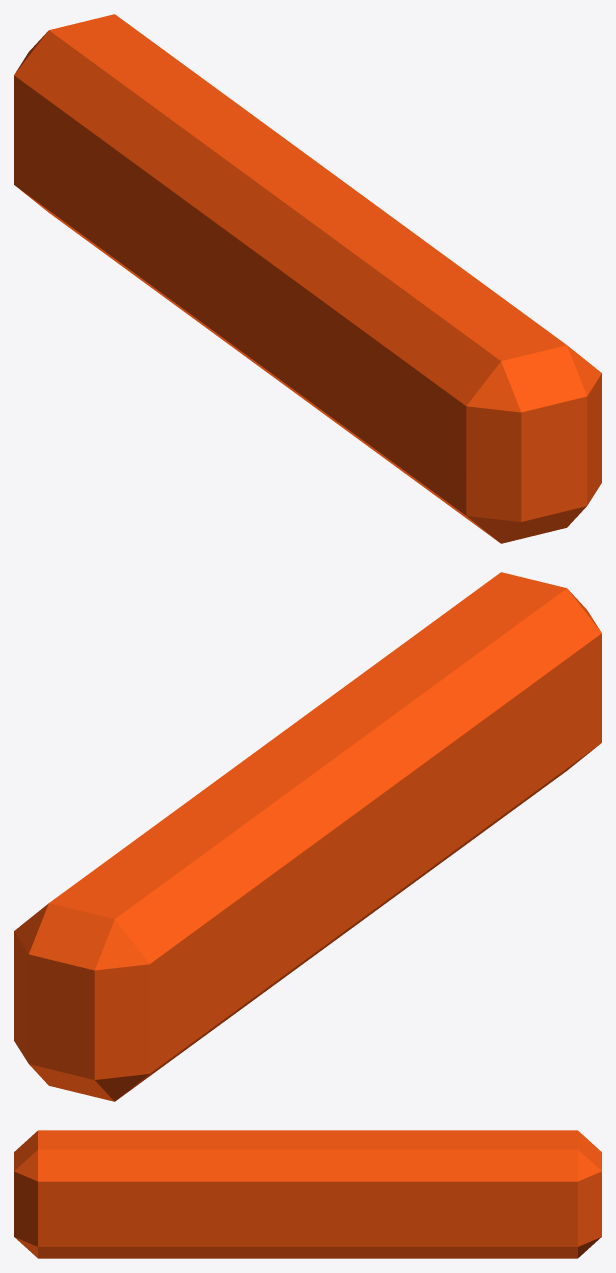
The model's file is SM_MP_Access_Status.fbx.
3 renders of one model, top to bottom at view 1: azimuth 30°, elevation 25°; view 2: azimuth 150°, elevation 25°; view 3: azimuth 270°, elevation 25°, orthographic. The views are drawn at different scales.
Visible parts, largest first — view 1: SM_MP_Access_Status; view 2: SM_MP_Access_Status; view 3: SM_MP_Access_Status.
Part boxes in pixels (x1=…): SM_MP_Access_Status: x1=14, y1=14, x2=601, y2=543; SM_MP_Access_Status: x1=14, y1=572, x2=601, y2=1101; SM_MP_Access_Status: x1=14, y1=1130, x2=601, y2=1258.
Bounding box in the file's own units: 3.5 × 22 × 4.5.
1 material, 1 textured.
